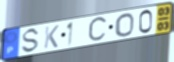0: (139, 8, 154, 34)
1: (65, 19, 77, 48)
C: (87, 15, 109, 44)
K: (43, 24, 60, 50)
O: (114, 12, 135, 38)
S: (20, 27, 42, 55)
